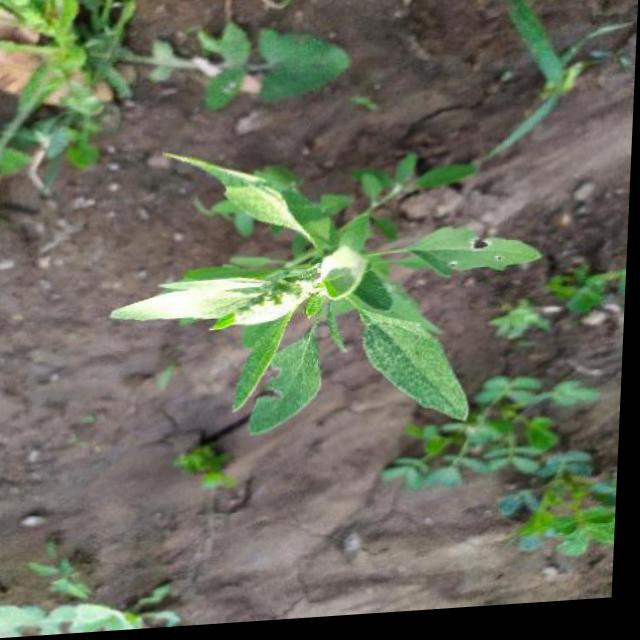weed: (118, 120, 588, 503)
